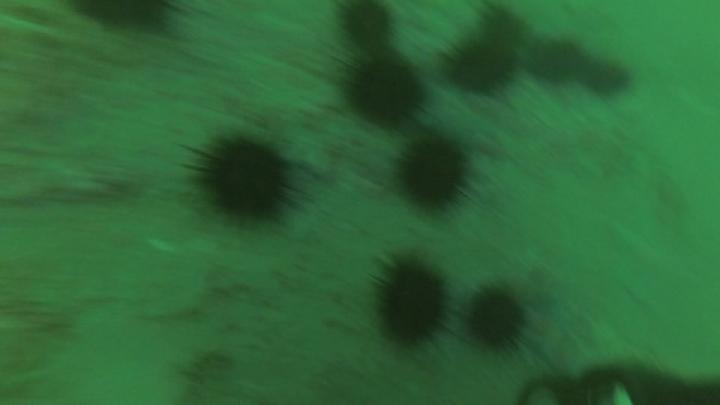echinus: (206, 139, 289, 220), (381, 263, 448, 346), (350, 59, 422, 127), (401, 139, 466, 211), (471, 291, 525, 347), (447, 44, 511, 91), (340, 1, 399, 47), (536, 37, 580, 84), (589, 60, 631, 96), (484, 13, 524, 48)
